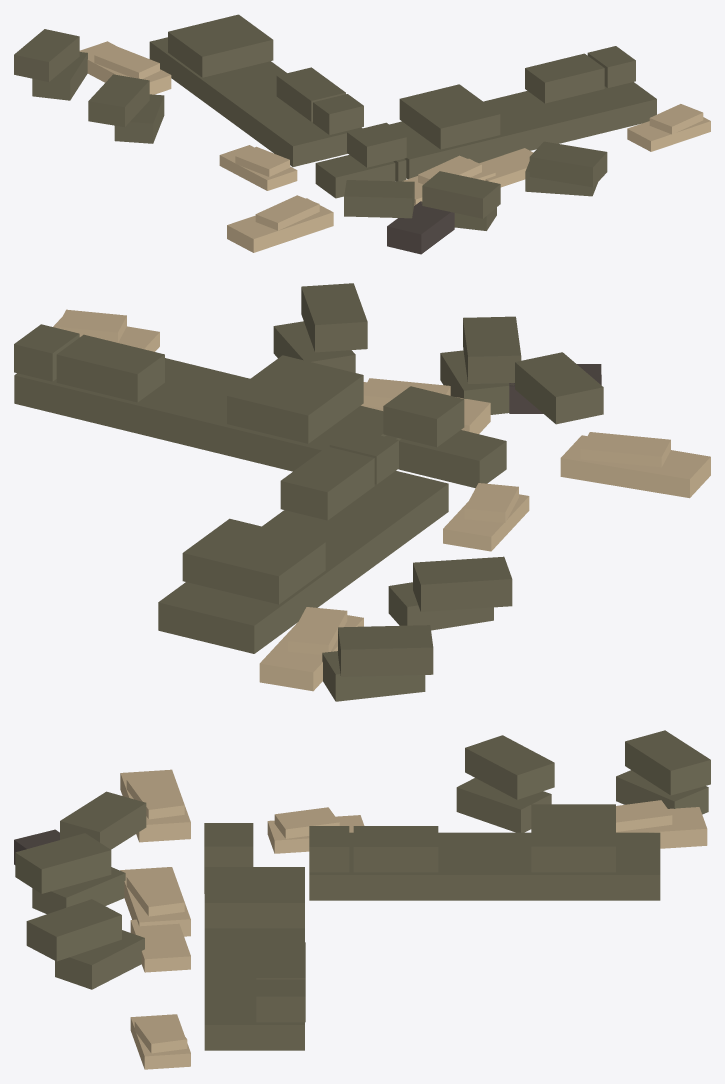
The model's file is SM_SacosEsquina_v0_Recto_e2_MuyDanado_LOD1.fbx.
The picture shows the model from 3 angles, top to bottom: view 1: azimuth 30°, elevation 25°; view 2: azimuth 150°, elevation 25°; view 3: azimuth 270°, elevation 25°; orthographic projection. The views are drawn at different scales.
Visible parts, largest first — view 1: SM_sacos_piezas_v2_LOD1; view 2: SM_sacos_piezas_v2_LOD1; view 3: SM_sacos_piezas_v2_LOD1.
Part boxes in pixels (bbox=[...]): SM_sacos_piezas_v2_LOD1: bbox=[14, 14, 710, 254]; SM_sacos_piezas_v2_LOD1: bbox=[14, 283, 710, 701]; SM_sacos_piezas_v2_LOD1: bbox=[14, 730, 710, 1069].
Bounding box in the file's own units: 6.57 × 0.585 × 6.67.
